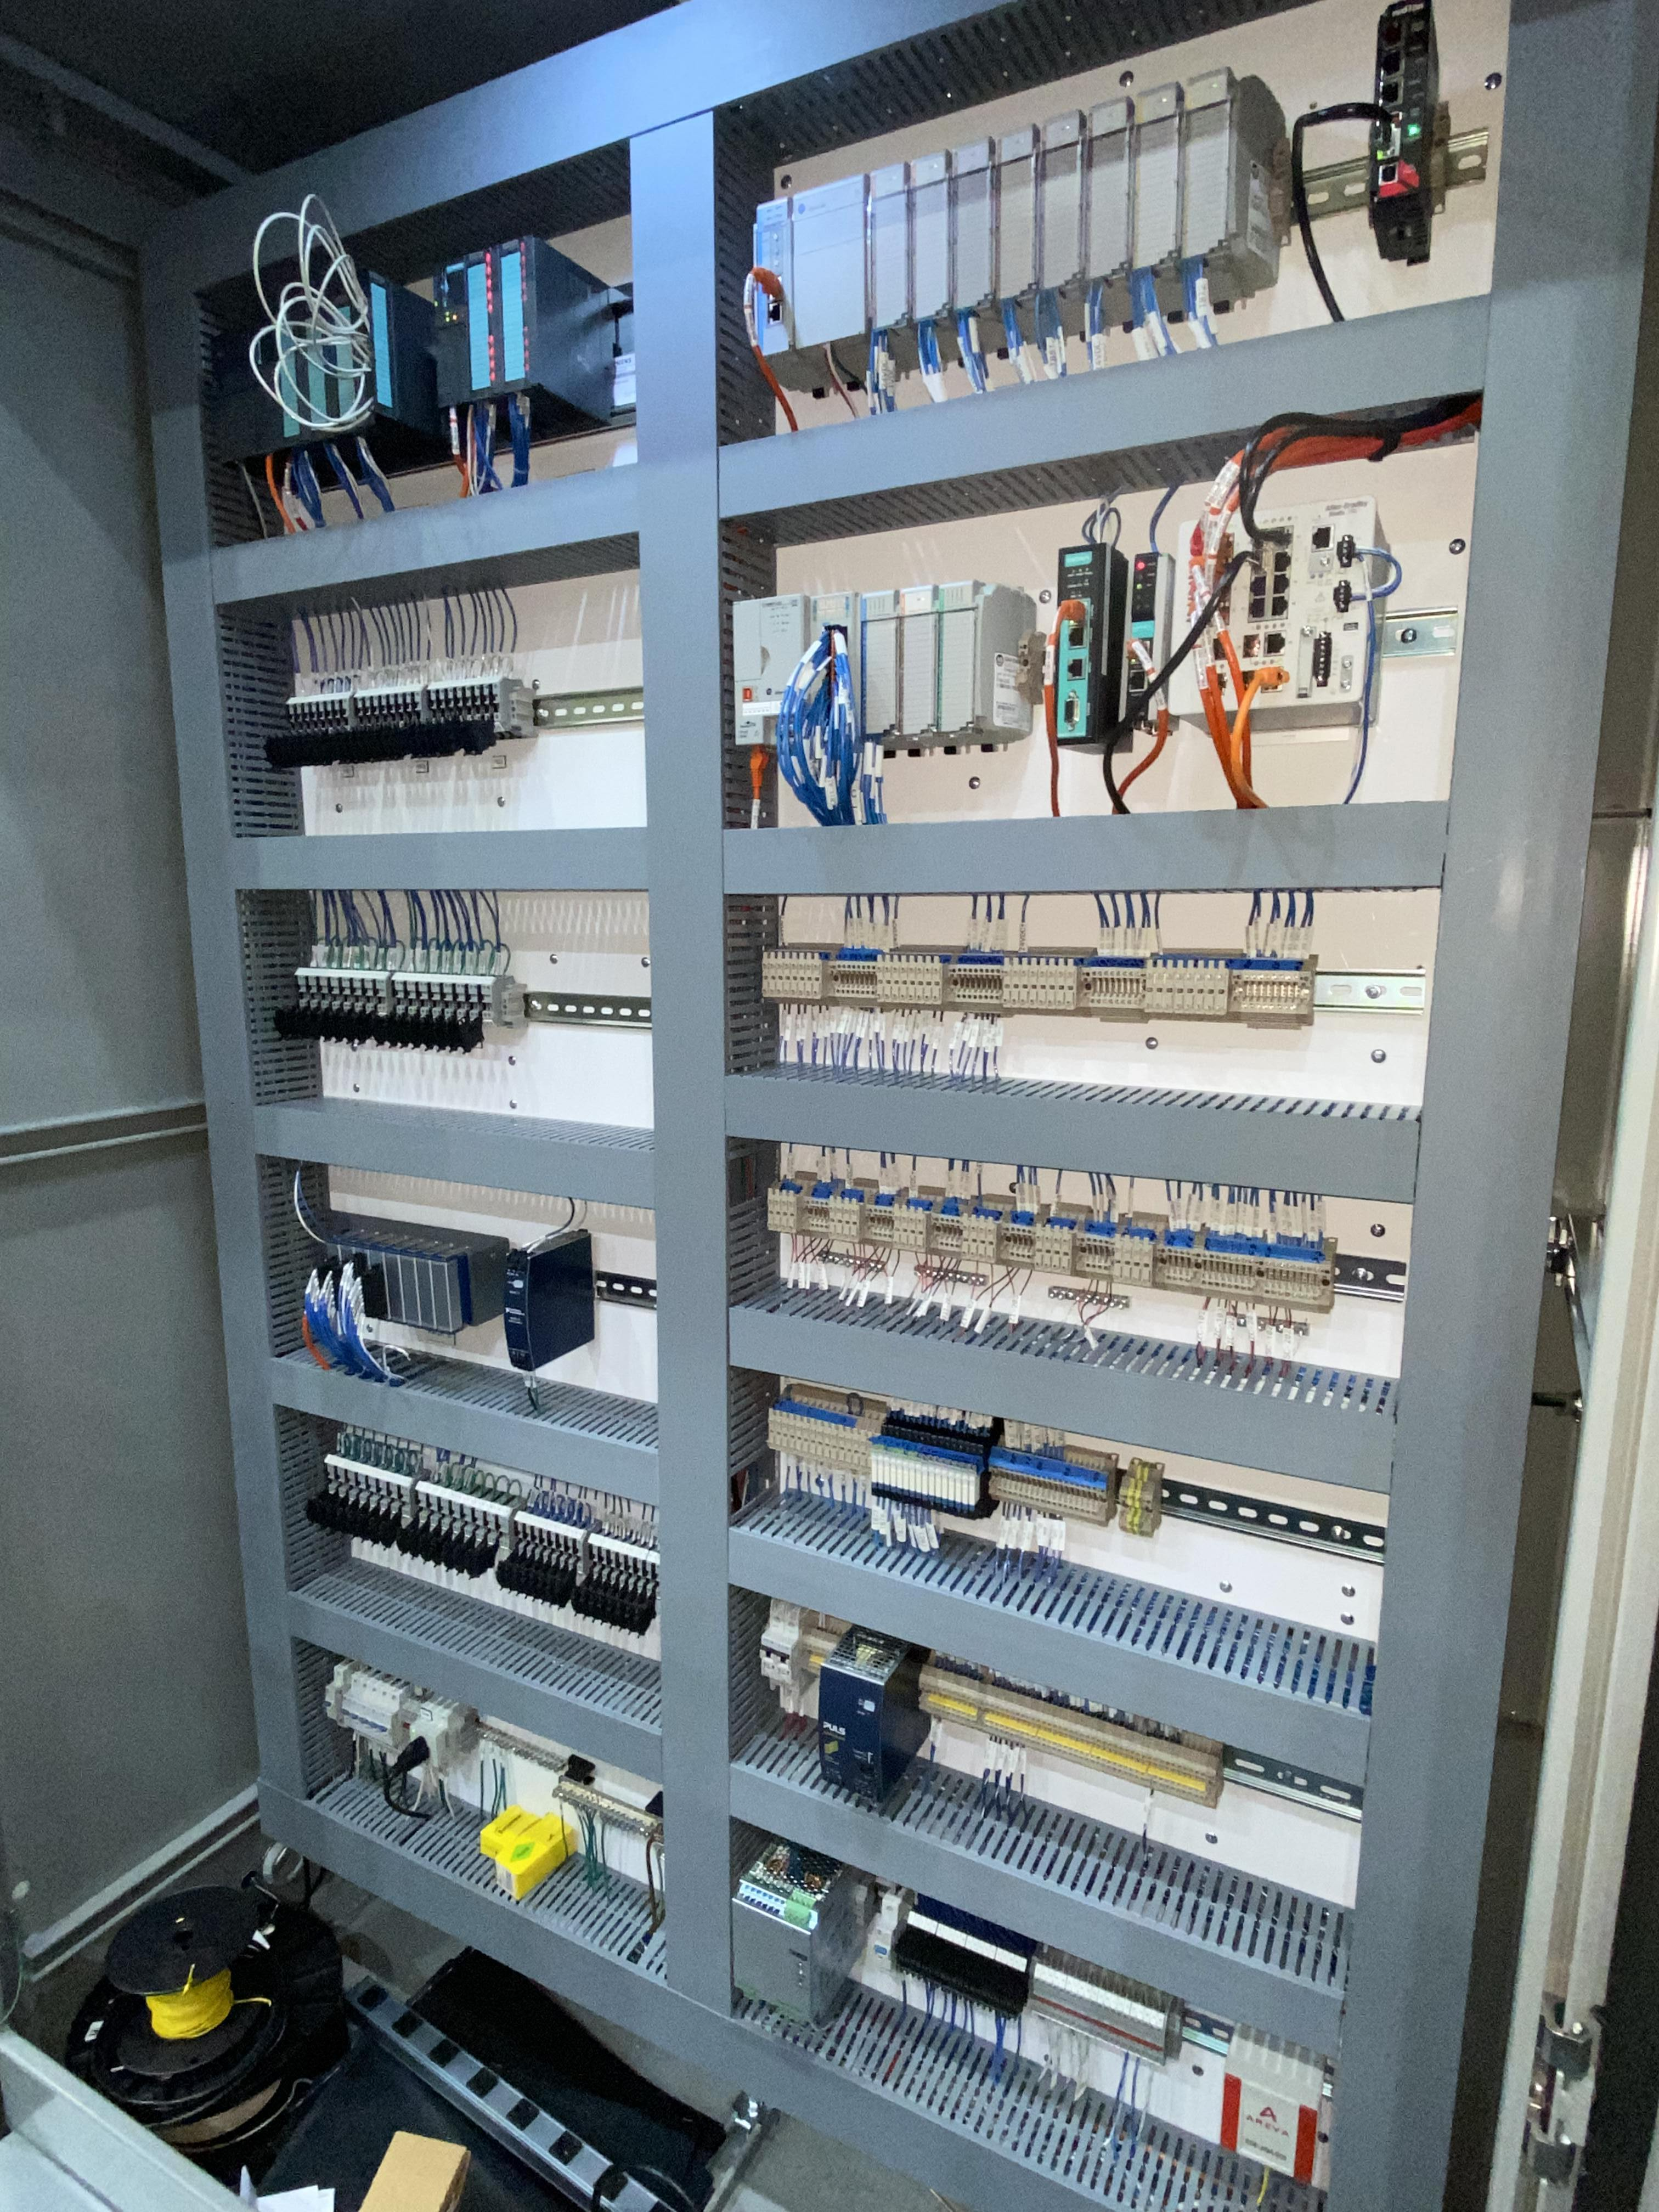AllenBradley: (728, 590, 810, 749)
Siemens: (244, 310, 289, 458)
